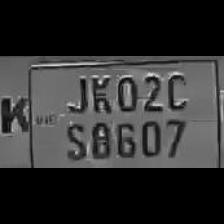0: (112, 72, 138, 114), (138, 118, 162, 158)
2: (139, 73, 163, 113)
6: (113, 118, 136, 158)
7: (162, 114, 186, 160)
8: (87, 119, 111, 160)
C: (163, 70, 187, 110)
J: (65, 74, 89, 114)
K: (88, 72, 112, 116)
S: (61, 118, 86, 162)
